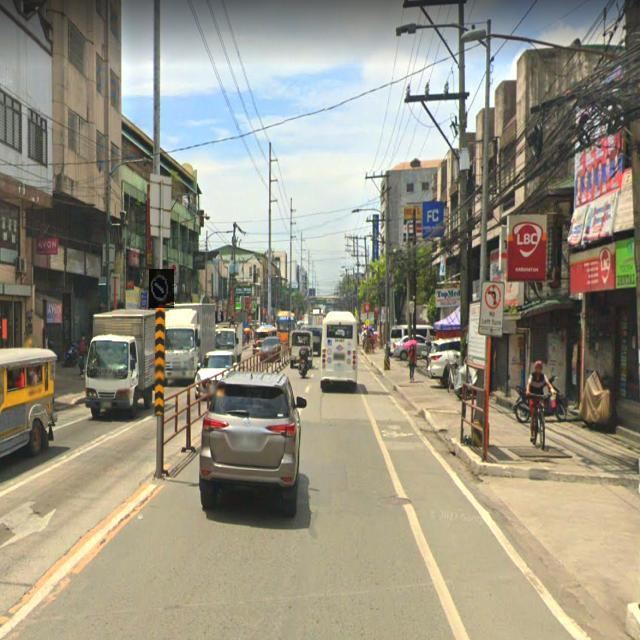keep right: (149, 269, 174, 308)
